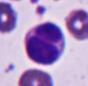M: (24, 22, 65, 66)
